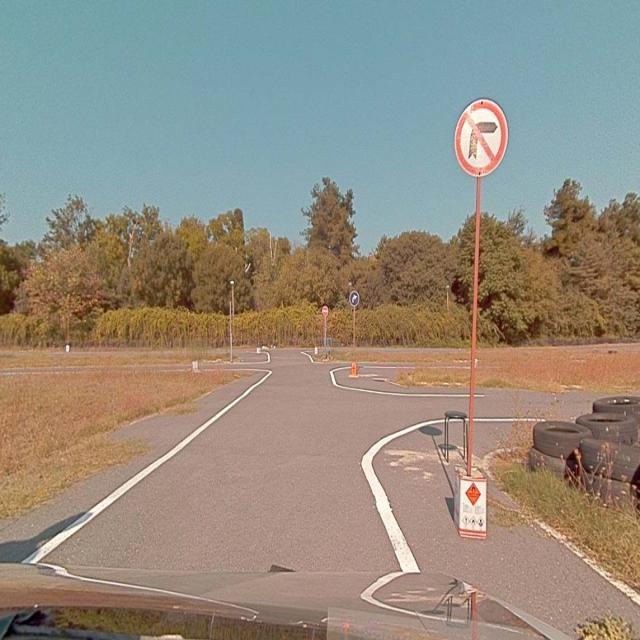girisyok: (322, 306, 328, 316)
sag: (349, 290, 358, 306)
sagadonulmez: (454, 97, 507, 176)
